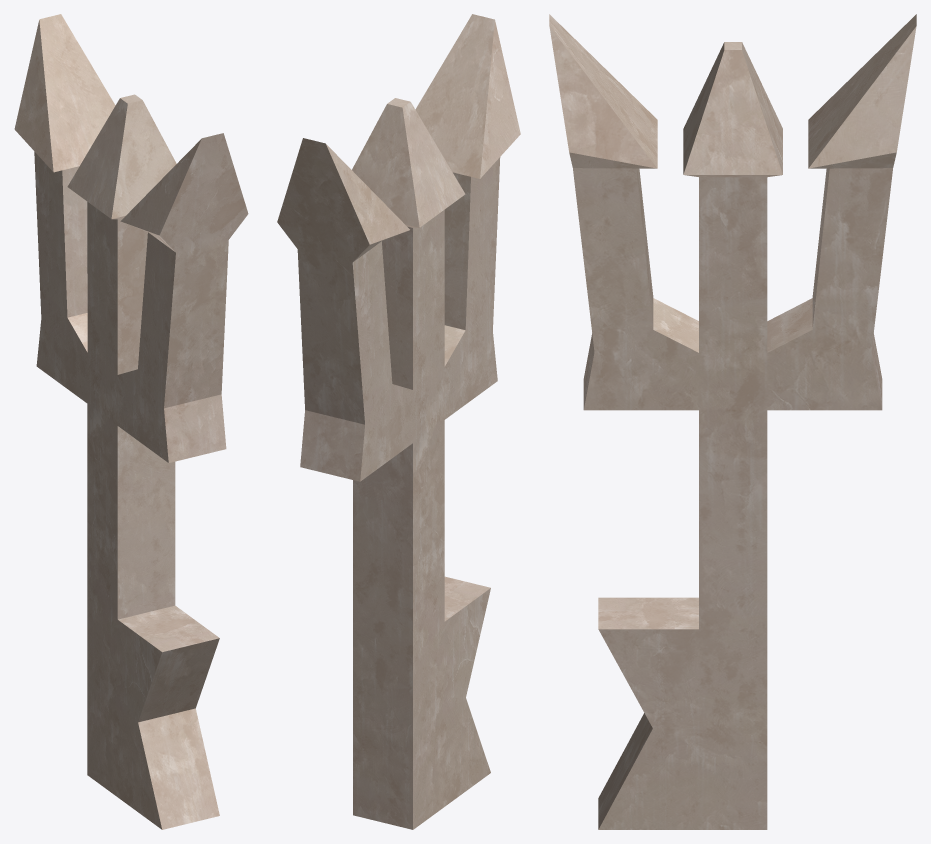
The model's file is tridentkey.glb.
3 renders of one model, left to right at view 1: azimuth 30°, elevation 25°; view 2: azimuth 150°, elevation 25°; view 3: azimuth 270°, elevation 25°, orthographic. The views are drawn at different scales.
Visible parts, largest first — view 1: Trident Key; view 2: Trident Key; view 3: Trident Key.
Part boxes in pixels (x1,y1,x2,y2): Trident Key: [14, 14, 248, 829]; Trident Key: [277, 14, 520, 829]; Trident Key: [549, 14, 916, 829].
Bounding box in the file's own units: 0.2628 × 1.99 × 0.8321.
Materials: 1 (1 with a texture image).
